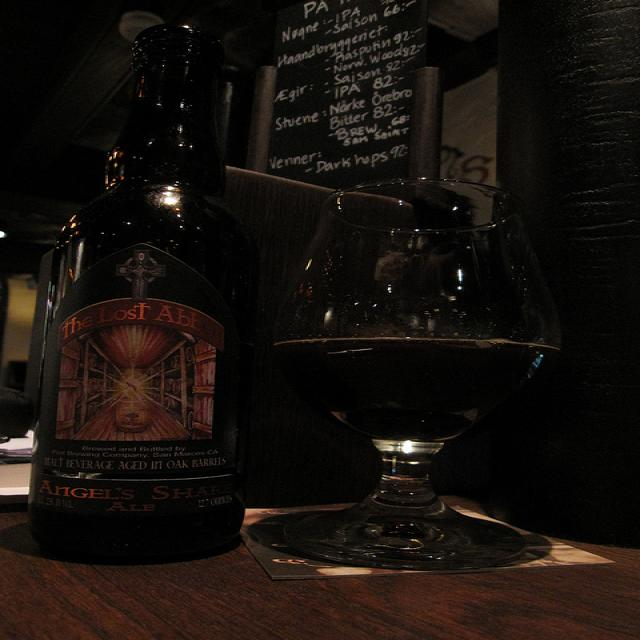Bottle: (17, 21, 281, 560)
Cup: (257, 153, 562, 573)
